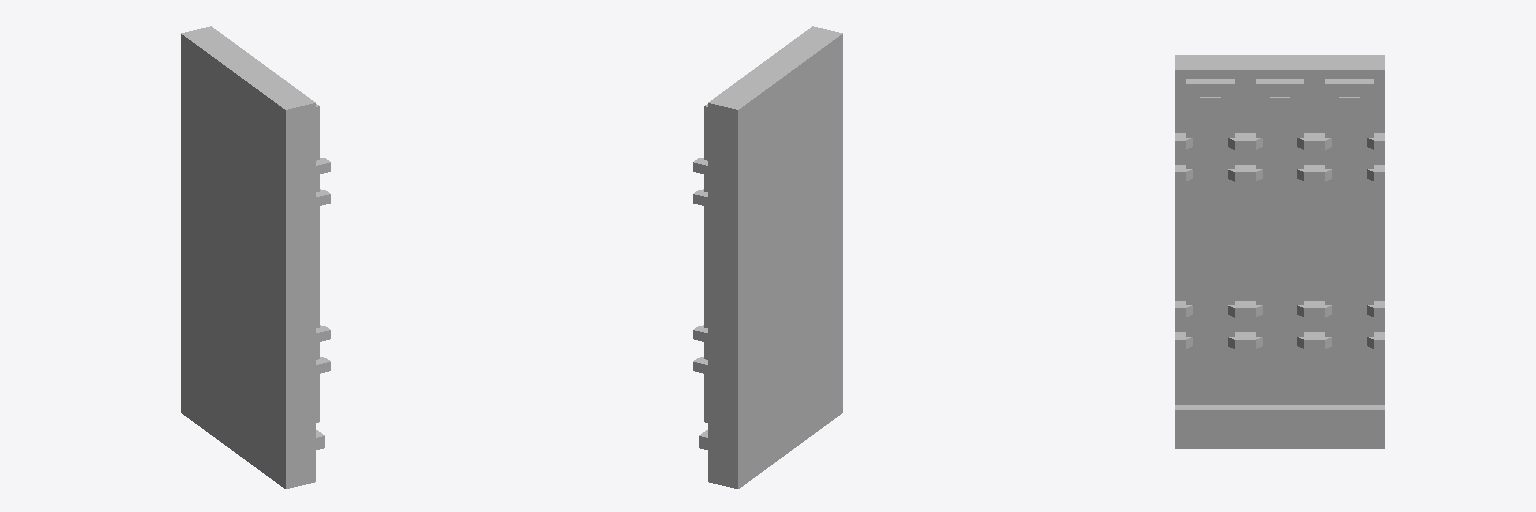
File: WallSimple.obj
3 views of the same model, side by side, from view 1: azimuth 30°, elevation 25°; view 2: azimuth 150°, elevation 25°; view 3: azimuth 270°, elevation 25° (orthographic).
Visible parts, largest first — view 1: MainWallSimplified; view 2: MainWallSimplified; view 3: MainWallSimplified.
Boxes of the visible parts, box(x1,y1,x2,y2) form: MainWallSimplified: box(181, 26, 330, 488); MainWallSimplified: box(693, 26, 842, 488); MainWallSimplified: box(1175, 55, 1384, 448).
Bounding box in the file's own units: 0.625 × 5 × 2.5.